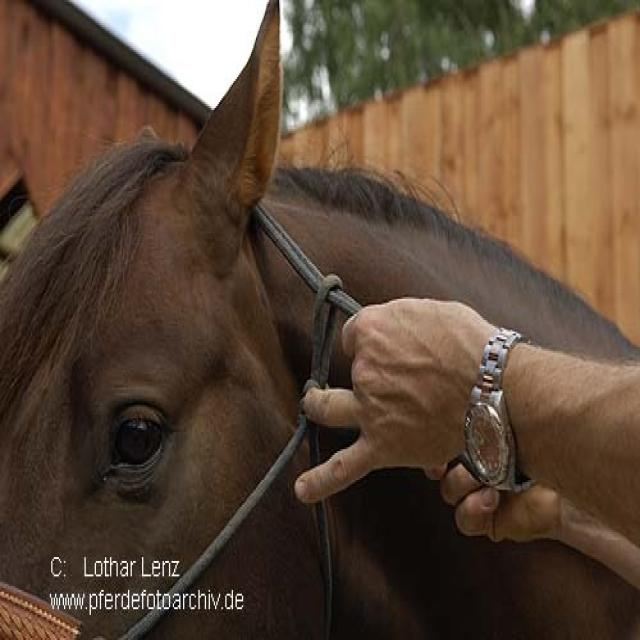horse: (2, 2, 638, 638)
